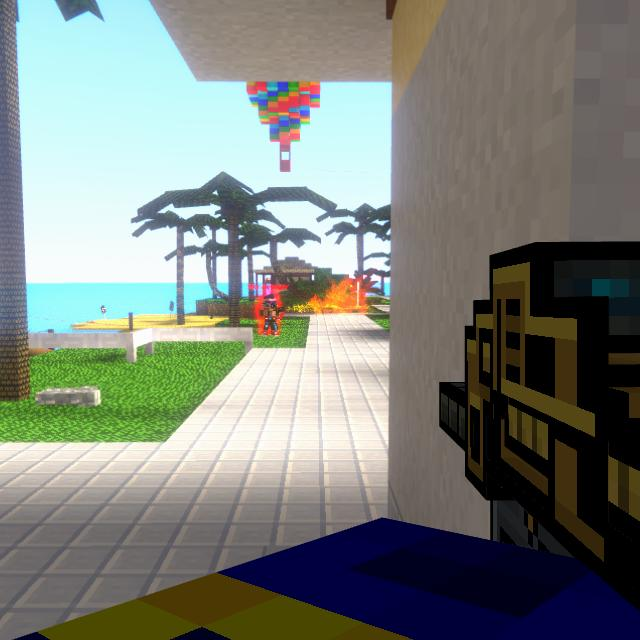Enemy: (259, 297, 282, 336)
